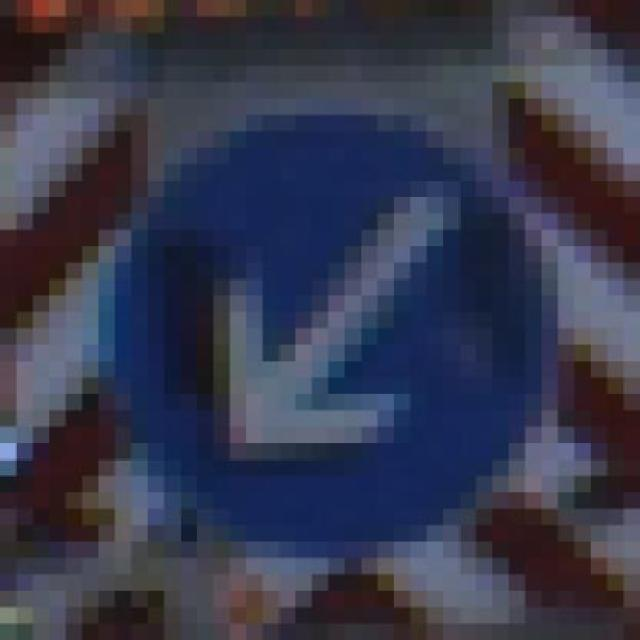Keep-Left: (49, 98, 591, 574)
